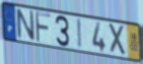3: (54, 13, 70, 48)
4: (92, 21, 107, 54)
F: (34, 10, 52, 45)
I: (75, 17, 83, 51)
N: (14, 7, 36, 43)
X: (108, 22, 127, 58)
